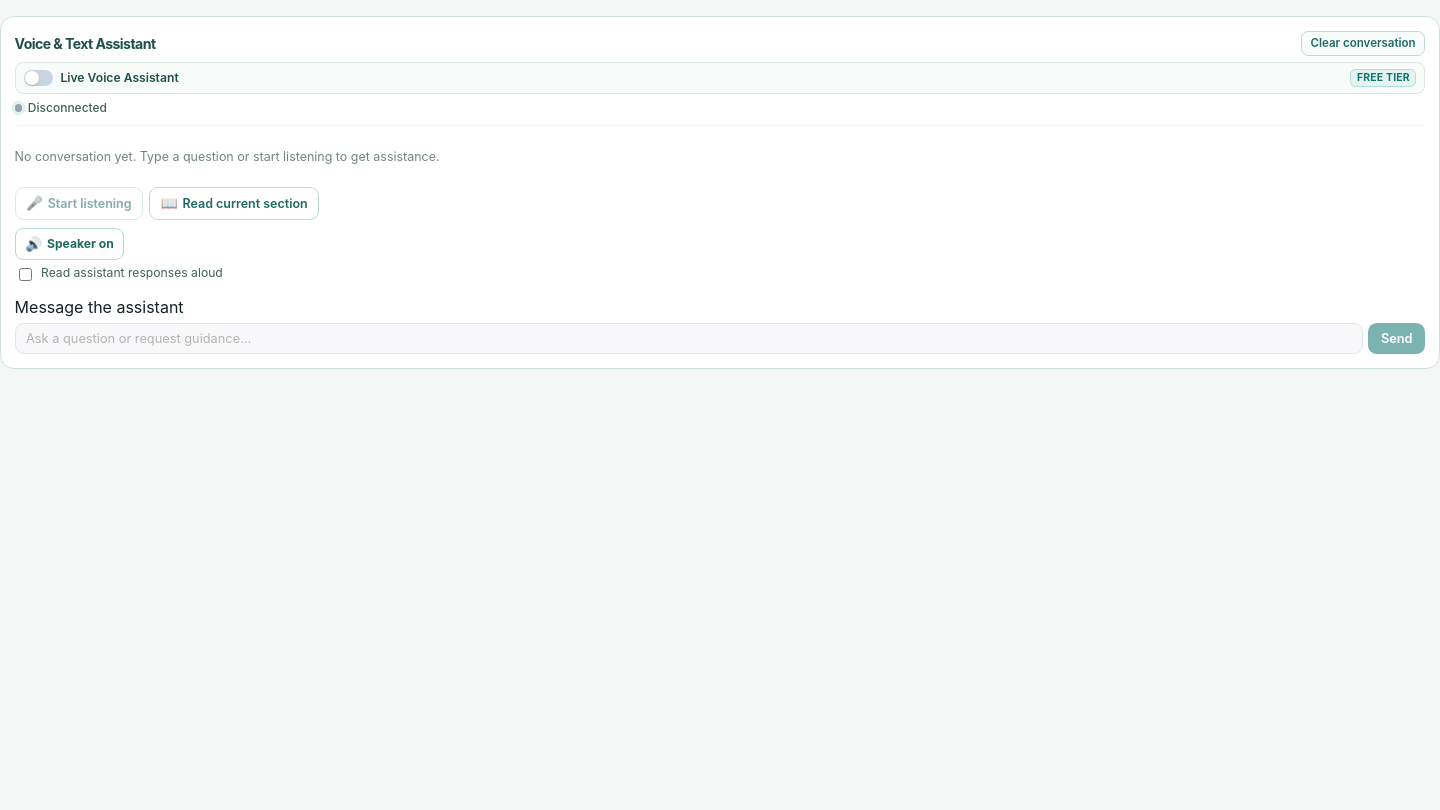
it: Phase 8 companion PIN prompt › cancels without connecting and returns focus to the Live switch
Click the switch labelled "Live Voice Assistant" at (101, 78), box [24,70,179,86]
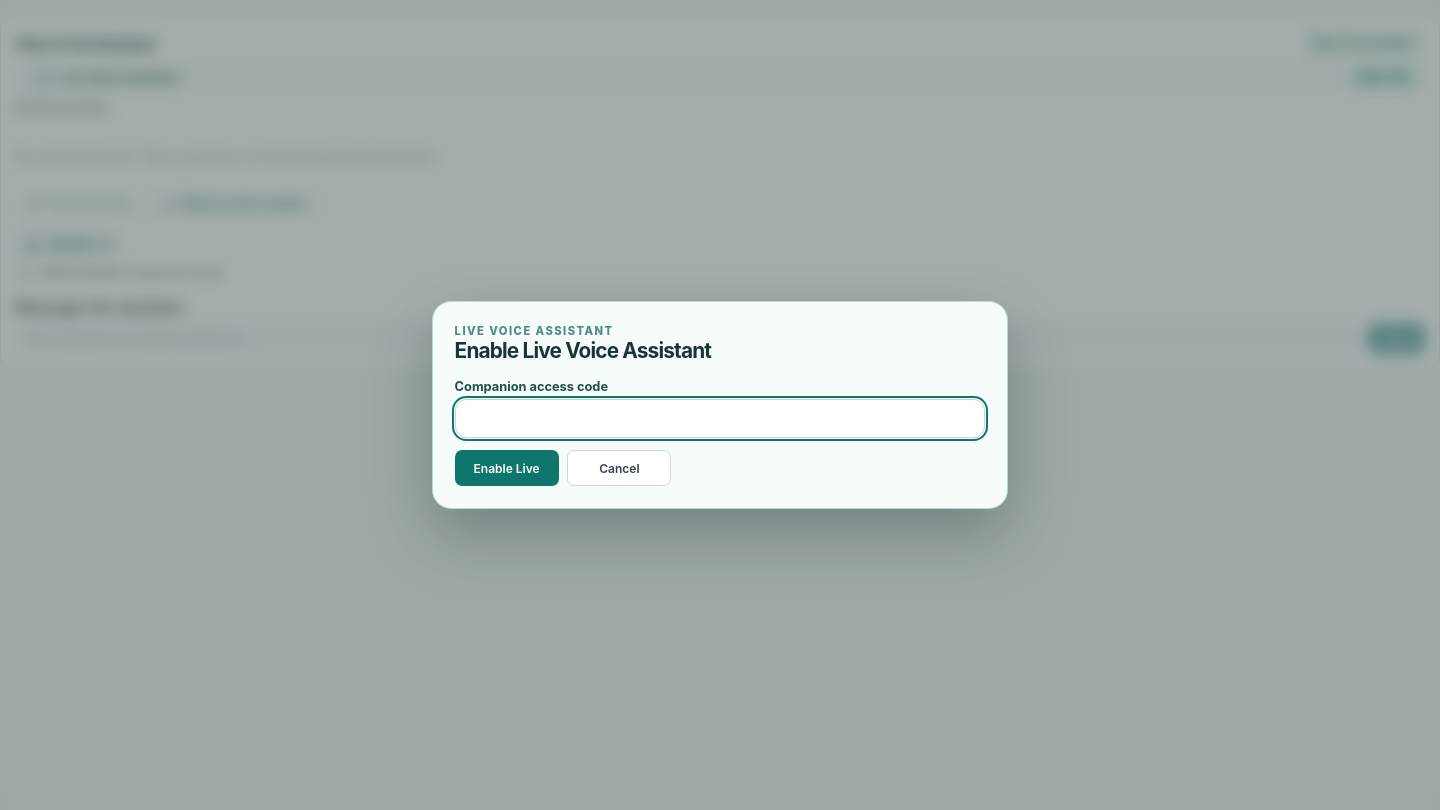
Click the button "Cancel" at (619, 468), box [567,450,671,486]
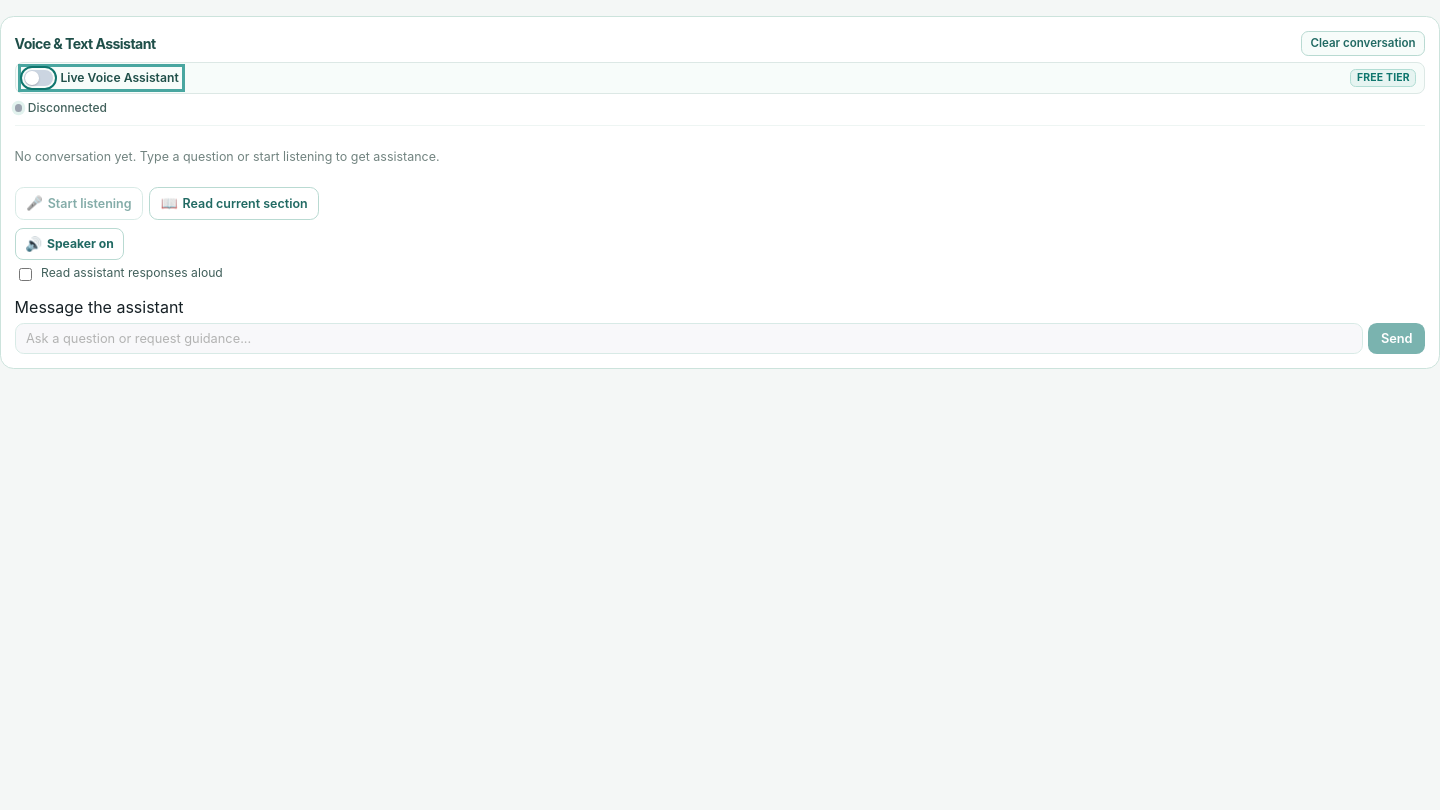
Result: the heading "Enable Live" is gone
